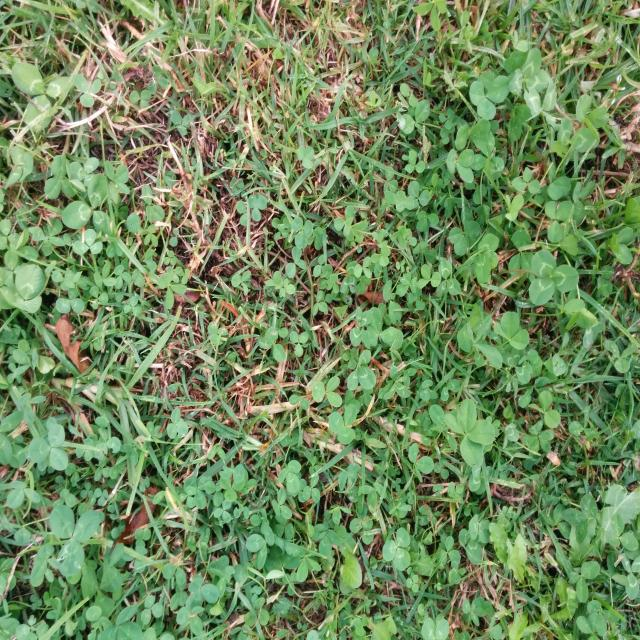Four Leaf Clover: (444, 398, 495, 467)
